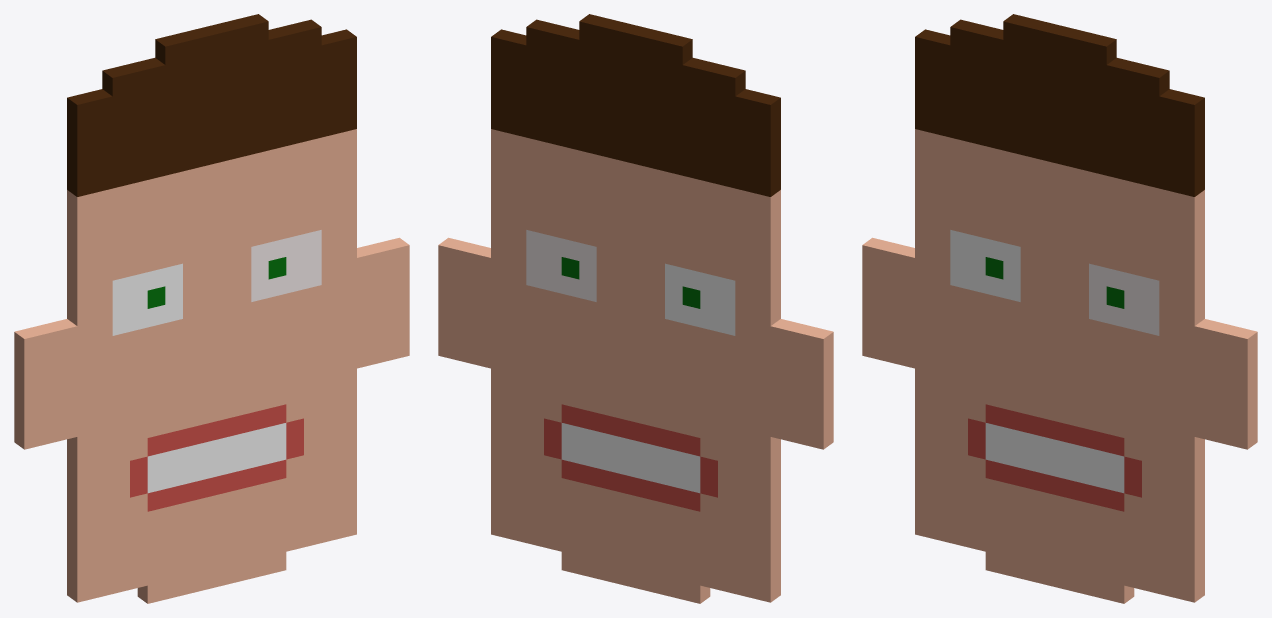
The model's file is perry_test.glb.
3 renders of one model, left to right at view 1: azimuth 30°, elevation 25°; view 2: azimuth 150°, elevation 25°; view 3: azimuth 330°, elevation 25°, orthographic.
Parts seen in each view (by area): view 1: Cube.248, Cube.338, Cube.154, Cube.343, Cube.335, Cube.156, Cube.130, Cube.345, Cube.280, Cube.011, Cube.013, Cube.102 (+26 smaller); view 2: Cube.248, Cube.338, Cube.154, Cube.343, Cube.335, Cube.156, Cube.130, Cube.345, Cube.280, Cube.011, Cube.013, Cube.102 (+26 smaller); view 3: Cube.253, Cube.133, Cube.349, Cube.132, Cube.163, Cube.347, Cube.346, Cube.212, Cube.323, Cube.395, Cube.484, Cube.486 (+26 smaller).
Part boxes in pixels (x1,y1,x2,y2): Cube.248: (67,93,94,123); Cube.338: (102,66,129,96); Cube.154: (14,327,41,357); Cube.343: (155,35,182,64); Cube.335: (138,58,165,87); Cube.156: (50,319,77,348); Cube.130: (223,18,251,48); Cube.345: (191,26,218,56); Cube.280: (67,171,94,196); Cube.011: (67,577,94,602); Cube.013: (67,522,94,547); Cube.102: (67,448,94,473); Cube.248: (753,93,780,123); Cube.338: (718,66,745,96); Cube.154: (806,327,833,357); Cube.343: (665,35,692,64); Cube.335: (682,58,709,87); Cube.156: (770,319,797,348); Cube.130: (596,18,624,48); Cube.345: (629,26,656,56); Cube.280: (753,171,780,196); Cube.011: (753,577,780,602); Cube.013: (753,522,780,547); Cube.102: (753,448,780,473); Cube.253: (1177,93,1204,123); Cube.133: (1142,66,1169,96); Cube.349: (1230,327,1257,357); Cube.132: (1089,35,1116,64); Cube.163: (1106,58,1133,87); Cube.347: (1020,18,1048,48); Cube.346: (1194,319,1221,348); Cube.212: (1177,171,1204,196); Cube.323: (1177,245,1204,270); Cube.395: (1177,448,1204,473); Cube.484: (1177,522,1204,547); Cube.486: (1177,577,1204,602).
Bounding box in the file's own units: 43.74 × 60 × 2.
